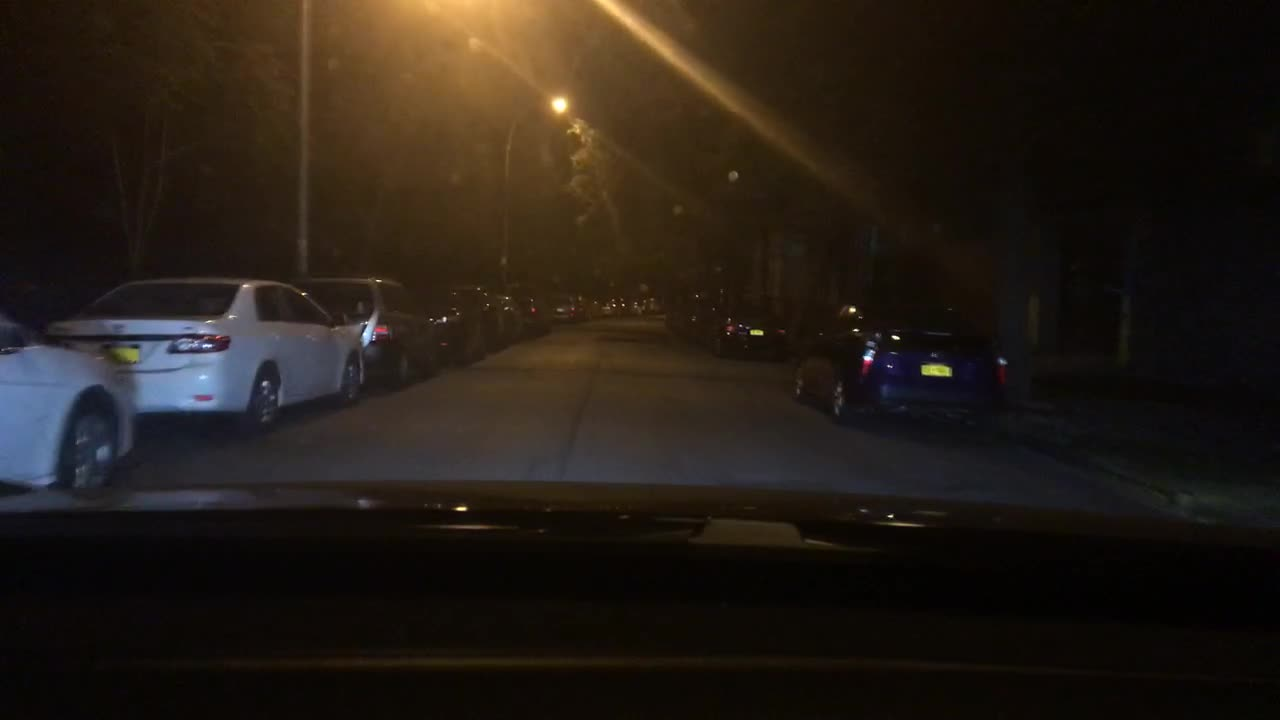car: (44, 275, 366, 437), (786, 290, 1025, 436), (0, 304, 139, 500), (298, 269, 446, 394), (420, 275, 501, 369), (705, 299, 807, 366), (469, 276, 527, 350), (541, 276, 602, 329), (506, 282, 558, 339), (684, 299, 728, 334), (665, 296, 709, 327), (586, 287, 621, 322), (600, 289, 635, 320), (616, 290, 647, 318), (632, 292, 654, 315), (646, 296, 667, 313)
traffic sign: (782, 242, 810, 261)
